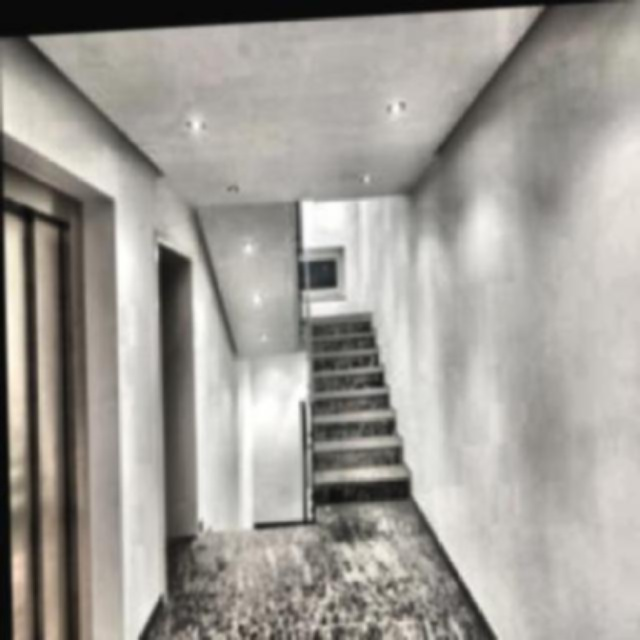stair: (303, 291, 414, 500)
